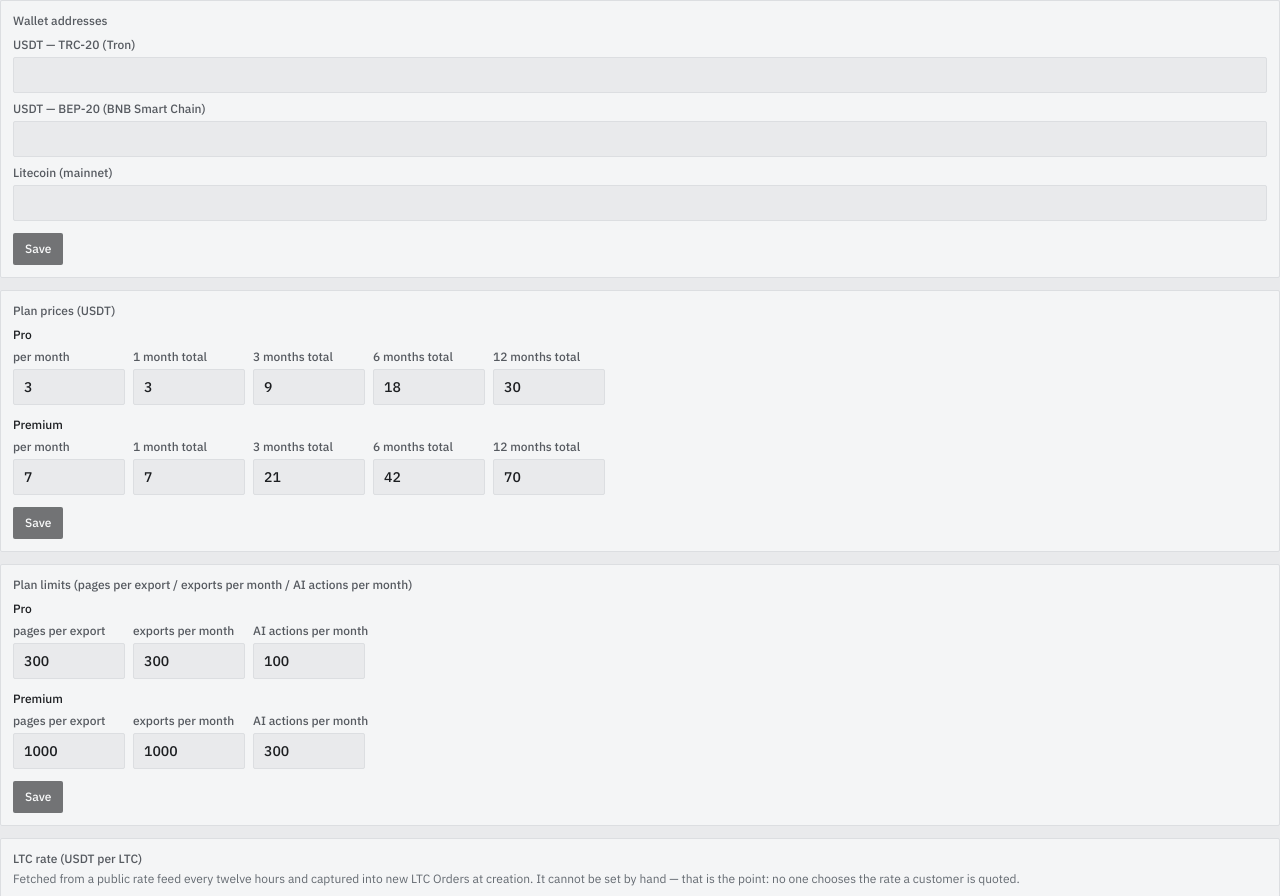
Test case: rejects non-numeric prices client-side before a request
The image size is (1280, 896).
Replace the text in the number field with test id "price-pro-monthly" with "-2" at (69, 387), box [13,369,125,405]
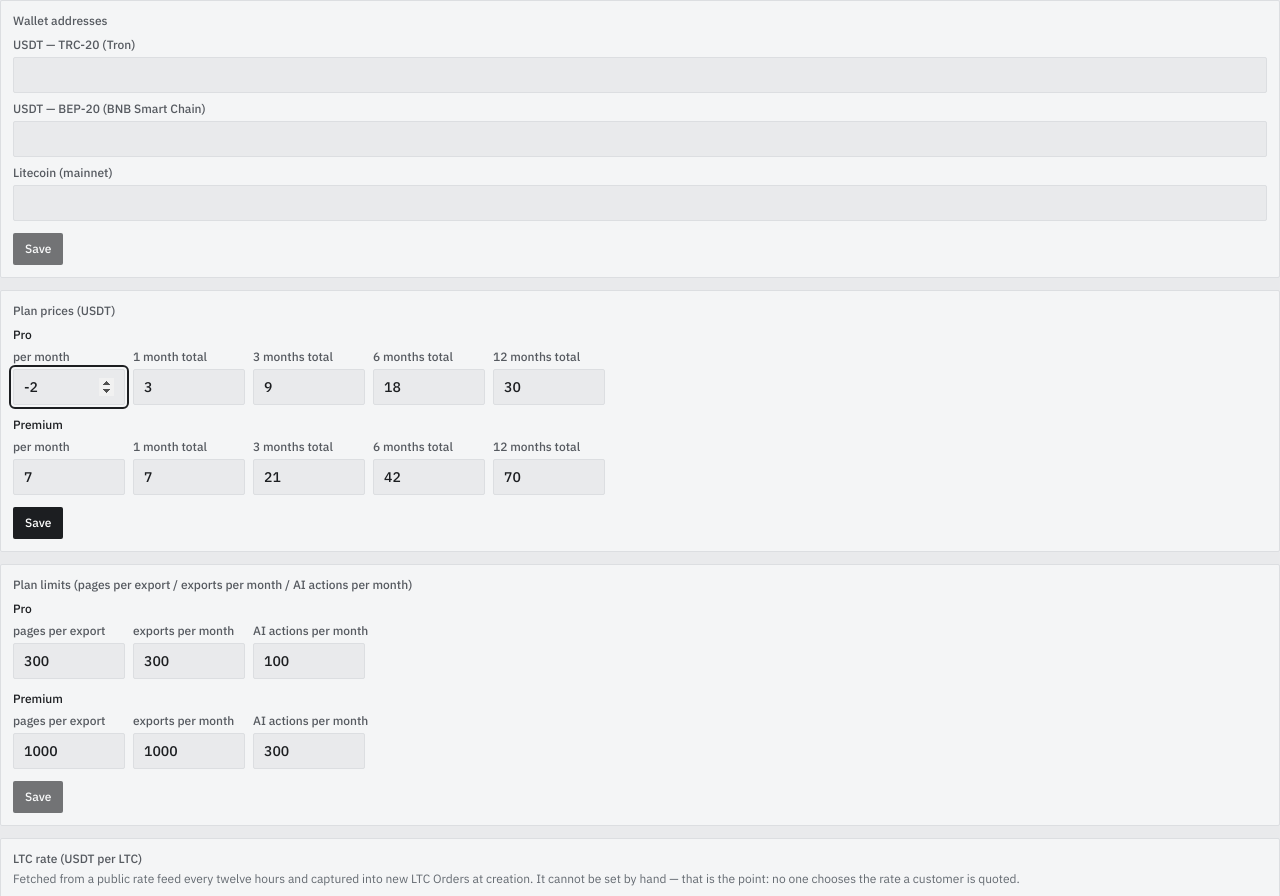
Click the button with test id "prices-save" at (38, 523), box [13,507,63,539]
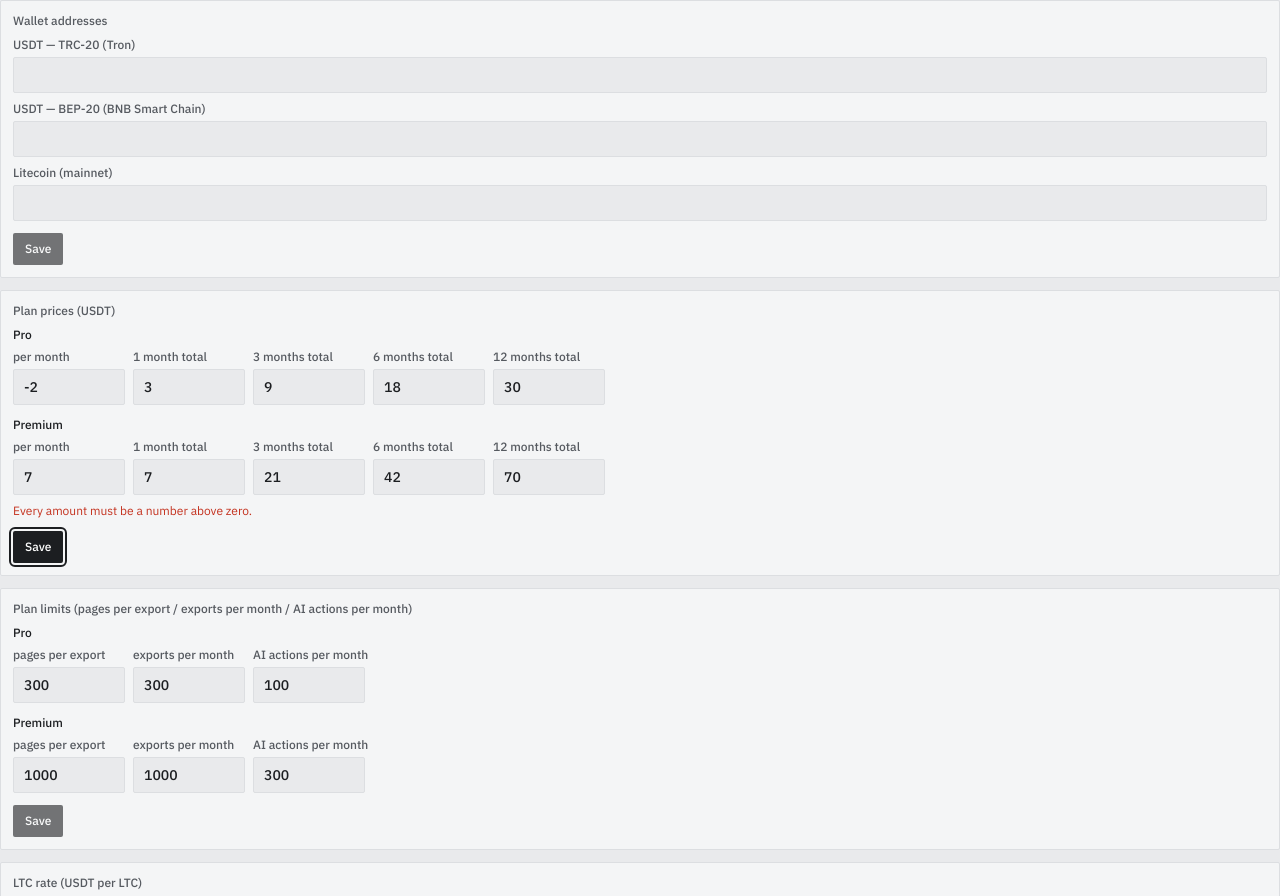
Expected: the message reads "Every amount must be a number above zero.", [13,503,252,518]
